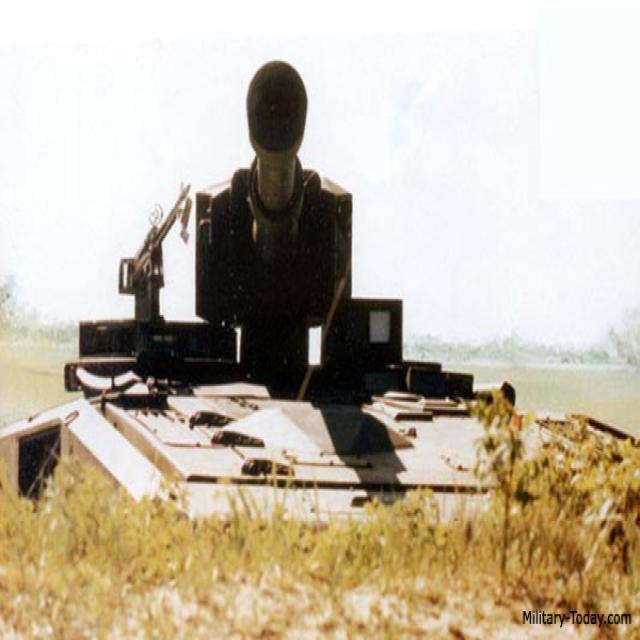Tank: (76, 60, 537, 510)
